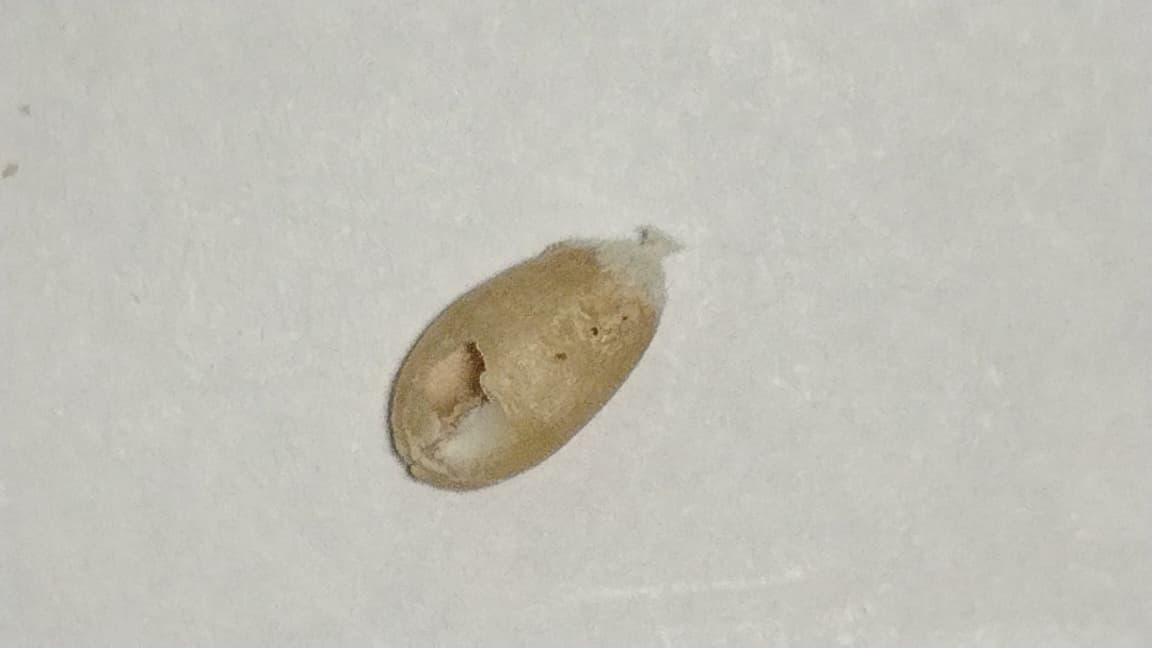damage: (391, 233, 667, 488)
insectdamage: (407, 338, 521, 474)
